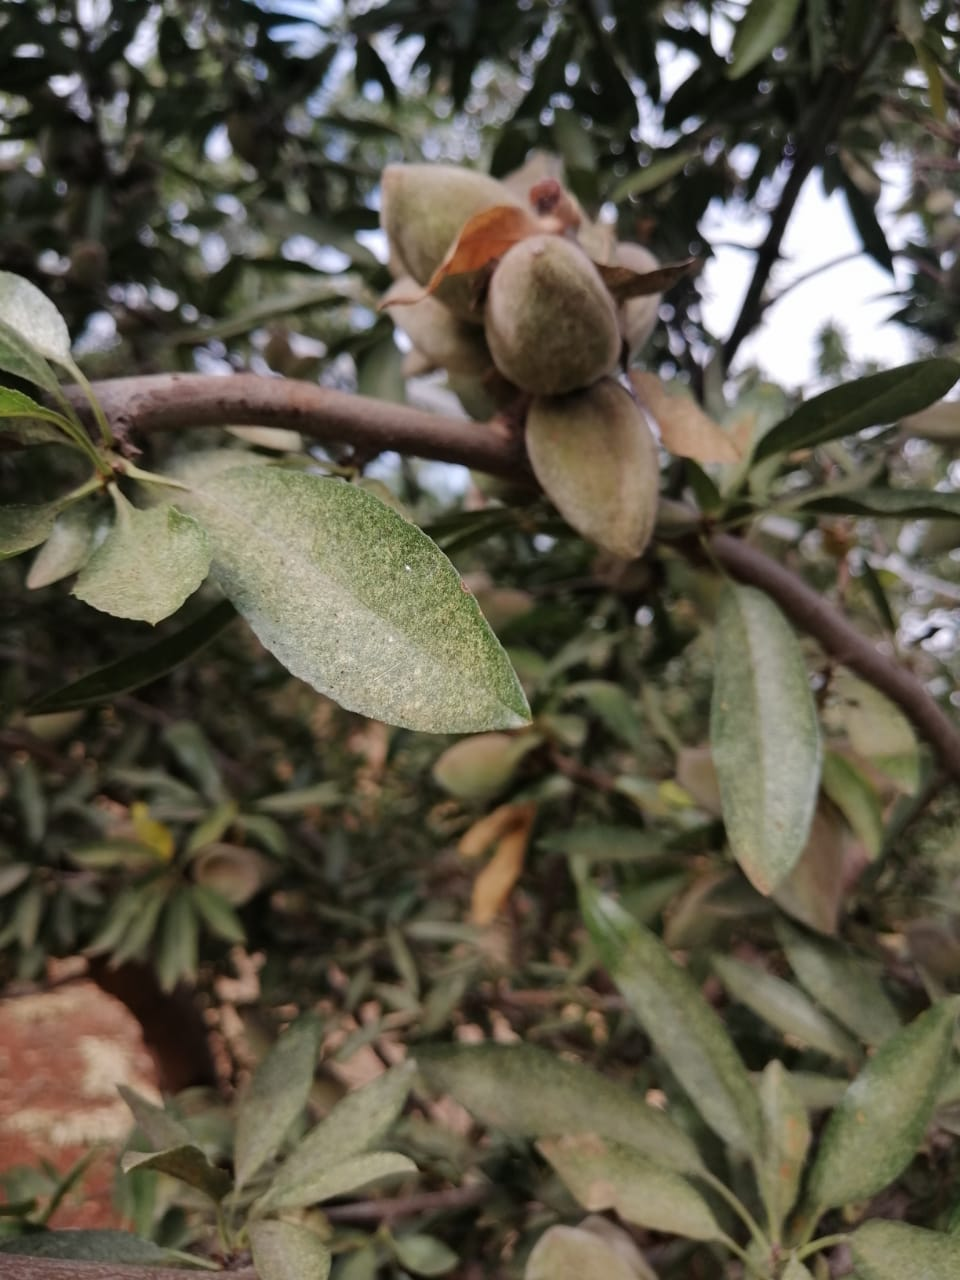acariens: (179, 460, 536, 733)
